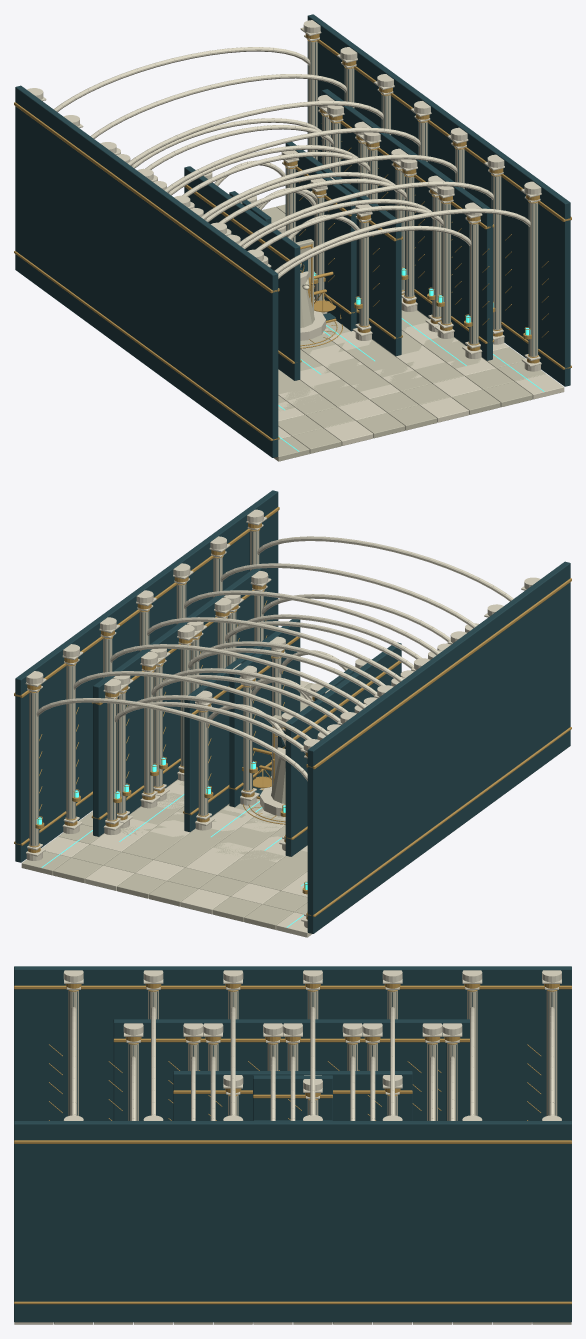
File: balance-temple-v04.glb
3 renders of one model, top to bottom at view 1: azimuth 30°, elevation 25°; view 2: azimuth 150°, elevation 25°; view 3: azimuth 270°, elevation 25°, orthographic. The views are drawn at different scales.
Parts seen in each view (by area): view 1: hall_lever_Midnight teal, hall_lever_Carved limestone, hall_lever_Ivory limestone, hall_entry_Midnight teal, hall_order_Carved limestone, hall_twin_Midnight teal, hall_order_Ivory limestone, hall_twin_Carved limestone, hall_twin_Ivory limestone, hall_order_Midnight teal, hall_lever_Aged brass, hall_corridor_Midnight teal (+7 smaller); view 2: hall_lever_Midnight teal, hall_lever_Carved limestone, hall_lever_Ivory limestone, hall_entry_Midnight teal, hall_order_Carved limestone, hall_twin_Midnight teal, hall_order_Ivory limestone, hall_twin_Carved limestone, hall_order_Midnight teal, hall_twin_Ivory limestone, hall_lever_Aged brass, hall_corridor_Midnight teal (+7 smaller); view 3: hall_lever_Midnight teal, hall_order_Midnight teal, hall_lever_Carved limestone, hall_lever_Aged brass, hall_twin_Midnight teal, hall_entry_Midnight teal, hall_lever_Ivory limestone, hall_order_Carved limestone, hall_twin_Carved limestone, hall_corridor_Midnight teal, hall_order_Ivory limestone, hall_order_Aged brass (+4 smaller).
Part boxes in pixels (<box>): hall_lever_Midnight teal: <box>15,14,570,457</box>; hall_lever_Carved limestone: <box>27,20,564,445</box>; hall_lever_Ivory limestone: <box>261,40,545,461</box>; hall_entry_Midnight teal: <box>184,142,401,380</box>; hall_order_Carved limestone: <box>116,95,482,407</box>; hall_twin_Midnight teal: <box>331,96,482,345</box>; hall_order_Ivory limestone: <box>278,115,481,411</box>; hall_twin_Carved limestone: <box>116,105,458,392</box>; hall_twin_Ivory limestone: <box>278,121,465,402</box>; hall_order_Midnight teal: <box>321,89,492,360</box>; hall_lever_Aged brass: <box>14,33,571,440</box>; hall_corridor_Midnight teal: <box>229,170,356,331</box>; hall_lever_Midnight teal: <box>15,490,570,933</box>; hall_lever_Carved limestone: <box>25,509,540,937</box>; hall_lever_Ivory limestone: <box>21,529,313,929</box>; hall_entry_Midnight teal: <box>184,619,401,856</box>; hall_order_Carved limestone: <box>103,571,478,886</box>; hall_twin_Midnight teal: <box>103,572,254,815</box>; hall_order_Ivory limestone: <box>107,590,307,883</box>; hall_twin_Carved limestone: <box>113,595,450,873</box>; hall_order_Midnight teal: <box>93,568,264,836</box>; hall_twin_Ivory limestone: <box>117,611,307,877</box>; hall_lever_Aged brass: <box>14,507,571,919</box>; hall_corridor_Midnight teal: <box>229,646,354,807</box>; hall_lever_Midnight teal: <box>14,966,571,1322</box>; hall_order_Midnight teal: <box>113,1019,469,1120</box>; hall_lever_Carved limestone: <box>14,970,561,1324</box>; hall_lever_Aged brass: <box>14,984,571,1304</box>; hall_twin_Midnight teal: <box>135,1019,451,1120</box>; hall_entry_Midnight teal: <box>173,1071,412,1120</box>; hall_lever_Ivory limestone: <box>54,990,571,1324</box>; hall_order_Carved limestone: <box>123,1023,462,1120</box>; hall_twin_Carved limestone: <box>183,1023,442,1120</box>; hall_corridor_Midnight teal: <box>253,1075,332,1120</box>; hall_order_Ivory limestone: <box>128,1043,457,1120</box>; hall_order_Aged brass: <box>108,1037,469,1120</box>.
Size of the model in its own units: 18.91 by 11.3 by 28.
